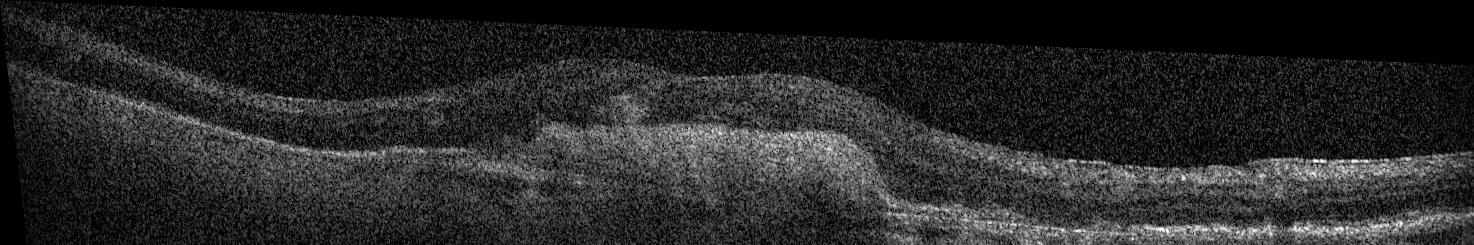subretinal_hyperreflective_material: (383, 118, 894, 203)
